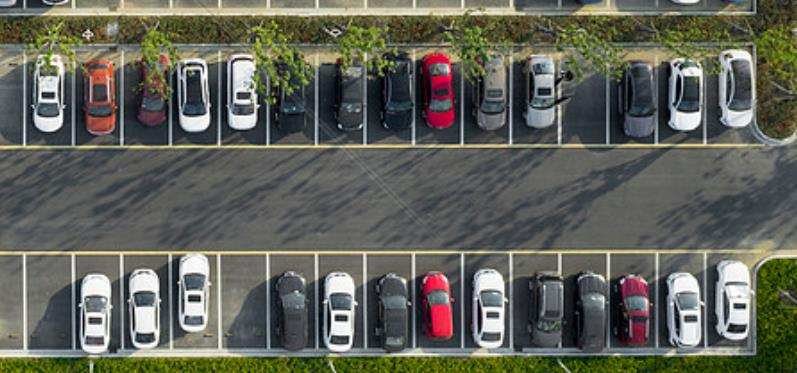car: (522, 48, 571, 131), (711, 253, 756, 343), (661, 267, 705, 352), (613, 59, 659, 140), (569, 269, 611, 357), (269, 269, 312, 352), (371, 270, 412, 356), (76, 60, 121, 138), (376, 49, 418, 132), (26, 49, 67, 134), (417, 50, 460, 131), (74, 271, 116, 353), (320, 269, 360, 354), (174, 52, 214, 134), (528, 266, 568, 347), (470, 265, 508, 350), (664, 55, 705, 133), (718, 47, 756, 130), (175, 253, 213, 335), (472, 60, 511, 134), (129, 265, 162, 352), (226, 52, 262, 131), (334, 55, 369, 136), (419, 270, 457, 342), (618, 272, 654, 347), (275, 54, 308, 135), (137, 52, 168, 127)
